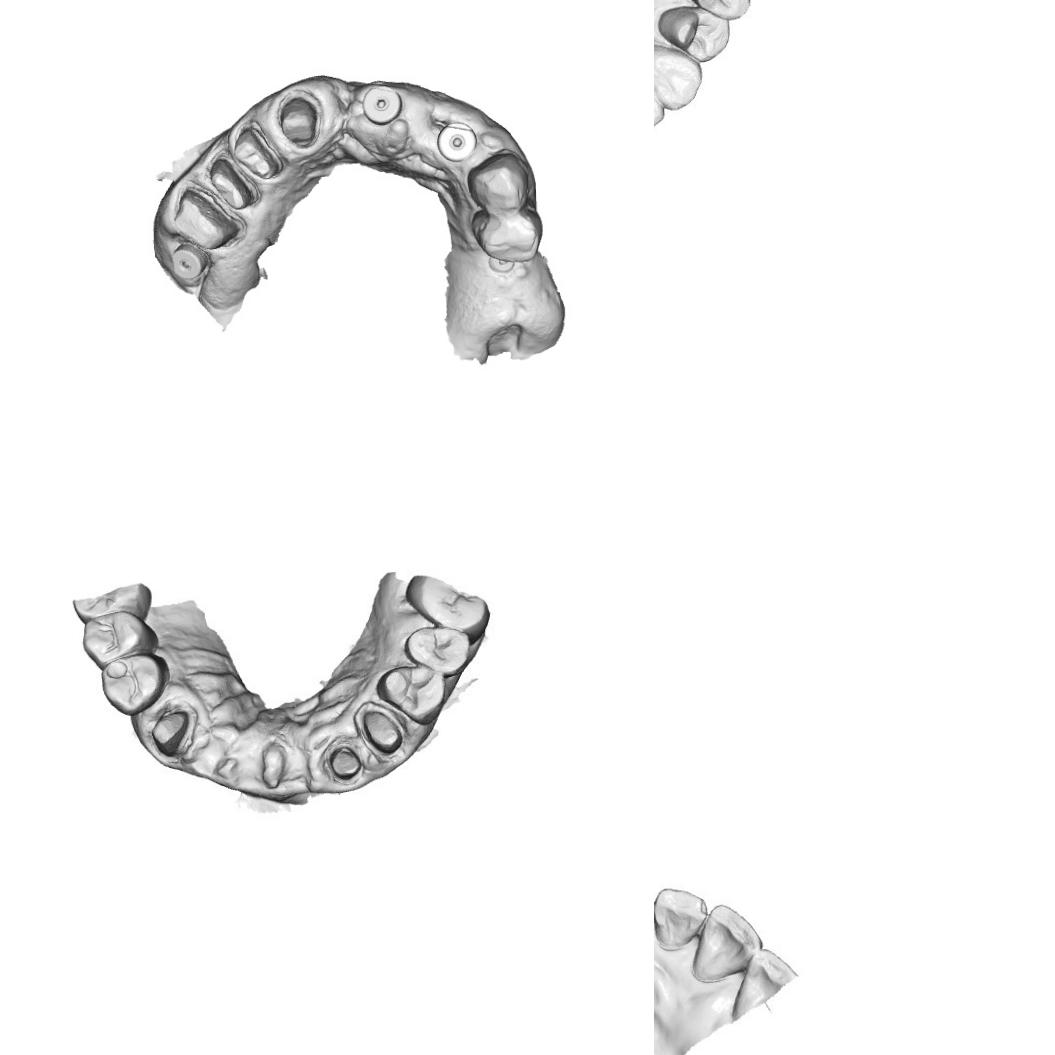canine: (465, 150, 531, 216), (654, 44, 703, 111)
crown: (170, 184, 244, 251), (229, 124, 281, 182), (205, 153, 254, 212), (274, 93, 322, 151), (148, 707, 194, 753), (361, 708, 405, 756), (324, 741, 370, 783)
implant: (362, 81, 404, 127), (436, 120, 478, 164), (169, 243, 209, 280), (487, 256, 518, 273)
incisor: (688, 901, 766, 982), (654, 884, 706, 954), (654, 78, 665, 139)
premolar: (80, 610, 161, 671), (374, 660, 447, 726), (102, 652, 170, 716), (468, 210, 544, 264), (402, 622, 472, 679), (665, 4, 731, 59), (689, 0, 754, 16)
